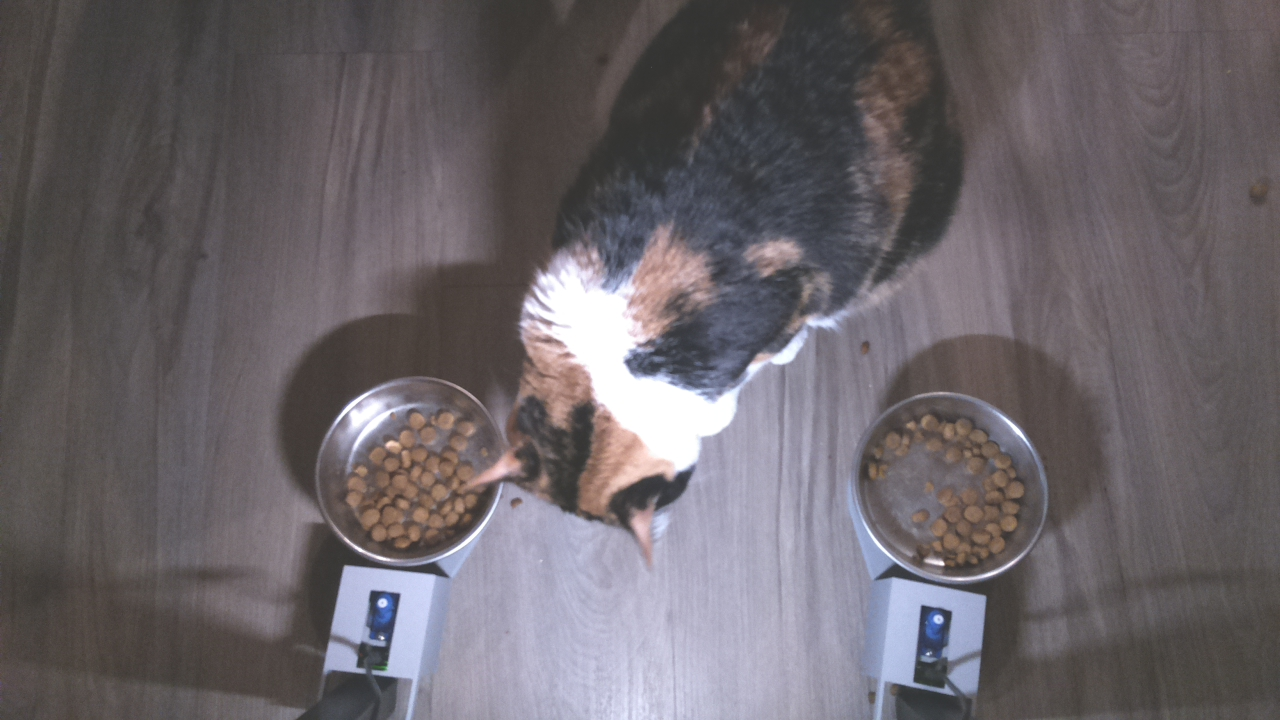bella: (487, 313, 741, 582)
open_bowl: (311, 371, 511, 575), (849, 389, 1051, 587)
